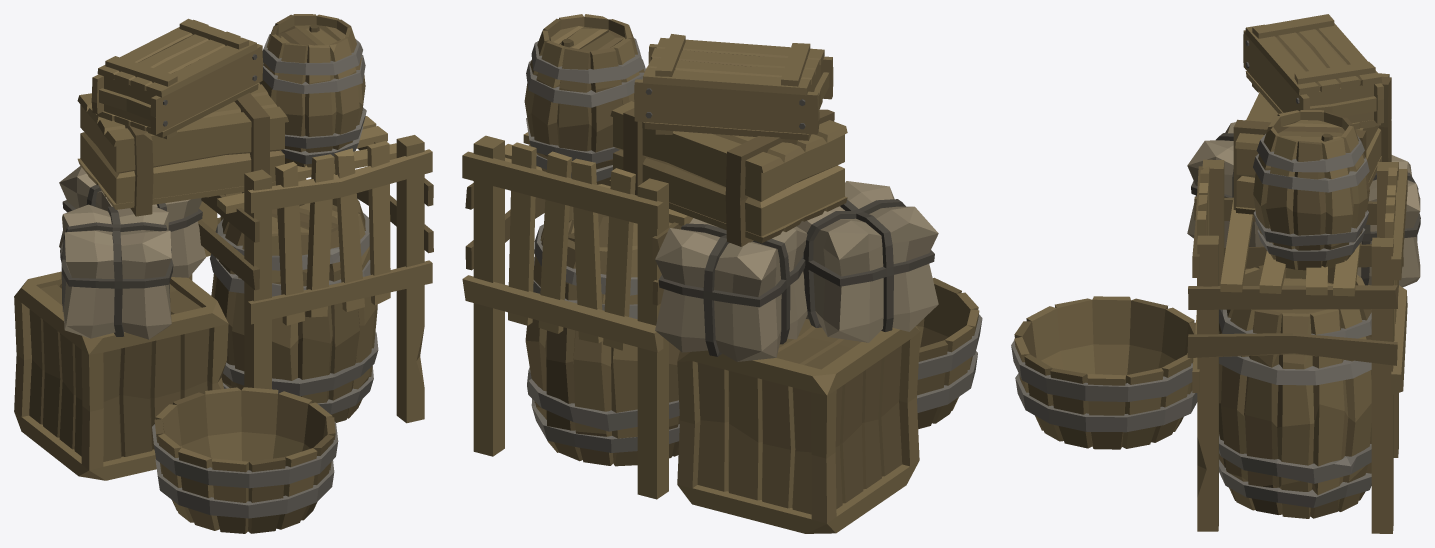
Rendered from Stack_7.fbx.
3 views of the same model, side by side, from view 1: azimuth 30°, elevation 25°; view 2: azimuth 150°, elevation 25°; view 3: azimuth 270°, elevation 25° (orthographic). The views are drawn at different scales.
Parts seen in each view (by area): view 1: Stack_7; view 2: Stack_7; view 3: Stack_7.
Part boxes in pixels (x1=…): Stack_7: x1=14, y1=14, x2=433, y2=533; Stack_7: x1=462, y1=14, x2=982, y2=533; Stack_7: x1=1011, y1=14, x2=1420, y2=533.
Bounding box in the file's own units: 176 × 178 × 169.
